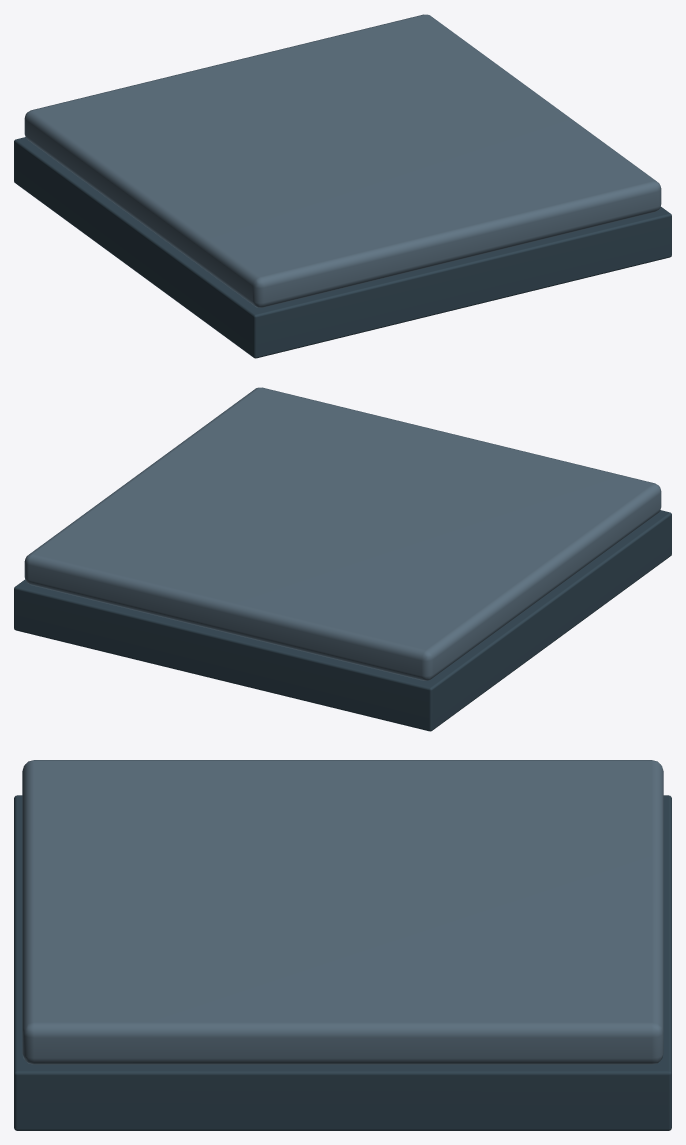
The model's file is AFJ_Floor_Tile_1x1.fbx.
3 views of the same model, one above another, from view 1: azimuth 30°, elevation 25°; view 2: azimuth 150°, elevation 25°; view 3: azimuth 270°, elevation 25° (orthographic). The views are drawn at different scales.
Visible parts, largest first — view 1: Tile_Top, Tile_Base; view 2: Tile_Top, Tile_Base; view 3: Tile_Top, Tile_Base.
Part boxes in pixels (<box>): Tile_Top: <box>24,14,661,307</box>; Tile_Base: <box>14,137,671,358</box>; Tile_Top: <box>24,387,661,680</box>; Tile_Base: <box>14,510,671,731</box>; Tile_Top: <box>22,760,663,1064</box>; Tile_Base: <box>14,795,671,1130</box>.
Size of the model in its own units: 100 by 17 by 100.
